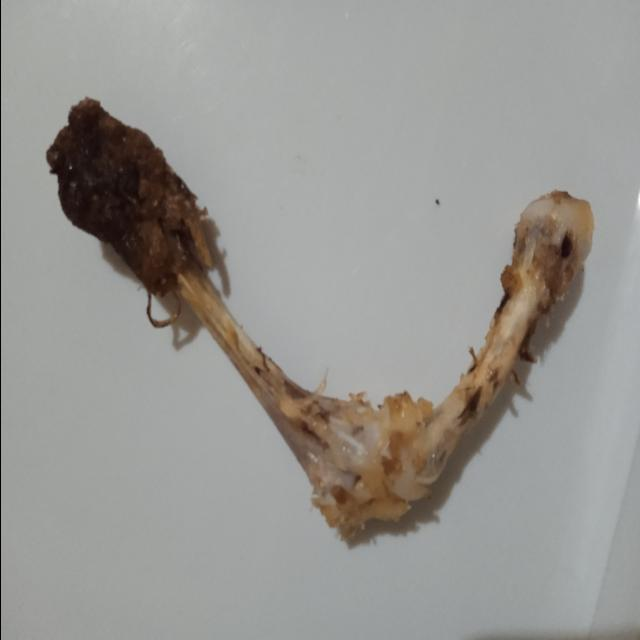bone: (38, 83, 600, 558)
